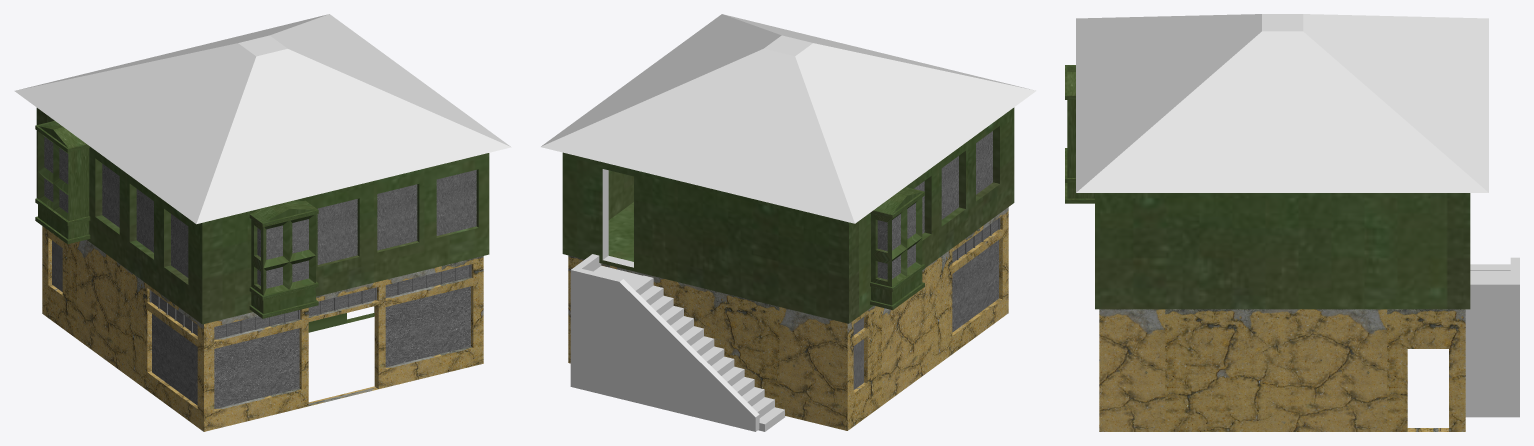
File: building6.fbx
3 renders of one model, left to right at view 1: azimuth 30°, elevation 25°; view 2: azimuth 150°, elevation 25°; view 3: azimuth 270°, elevation 25°, orthographic. The views are drawn at different scales.
Parts seen in each view (by area): view 1: roof; view 2: roof; view 3: roof.
Boxes of the visible parts, x1,y1,x2,y2 form: roof: (14,14,511,431); roof: (541,14,1036,431); roof: (1065,14,1519,431).
Bounding box in the file's own units: 926 × 804 × 993.
